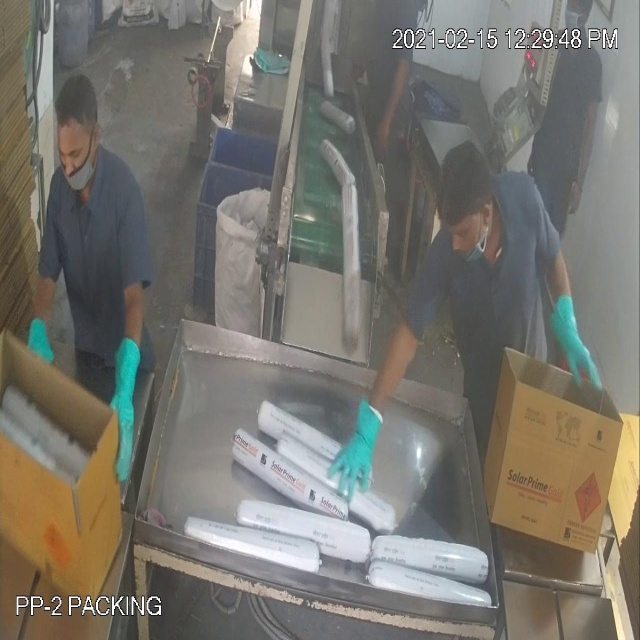Guantes: (544, 276, 608, 406), (109, 316, 154, 495), (329, 388, 386, 515)
Sin_guantes: (567, 90, 610, 221), (374, 42, 411, 156)
